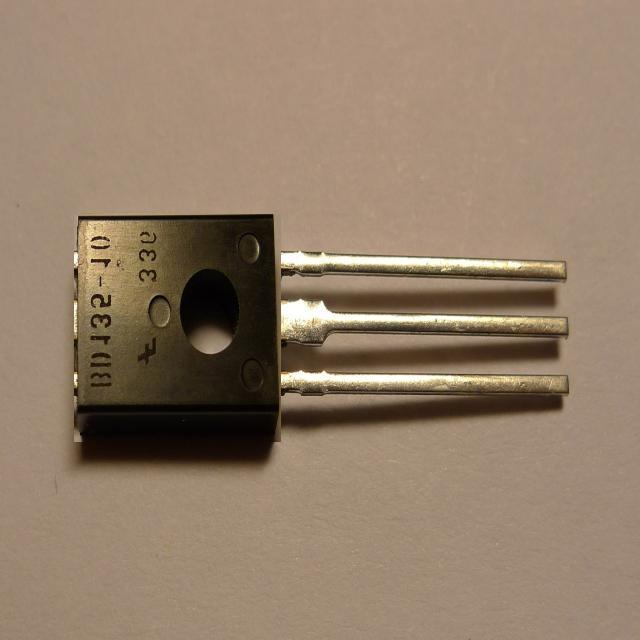Transistor: (66, 201, 584, 468)
